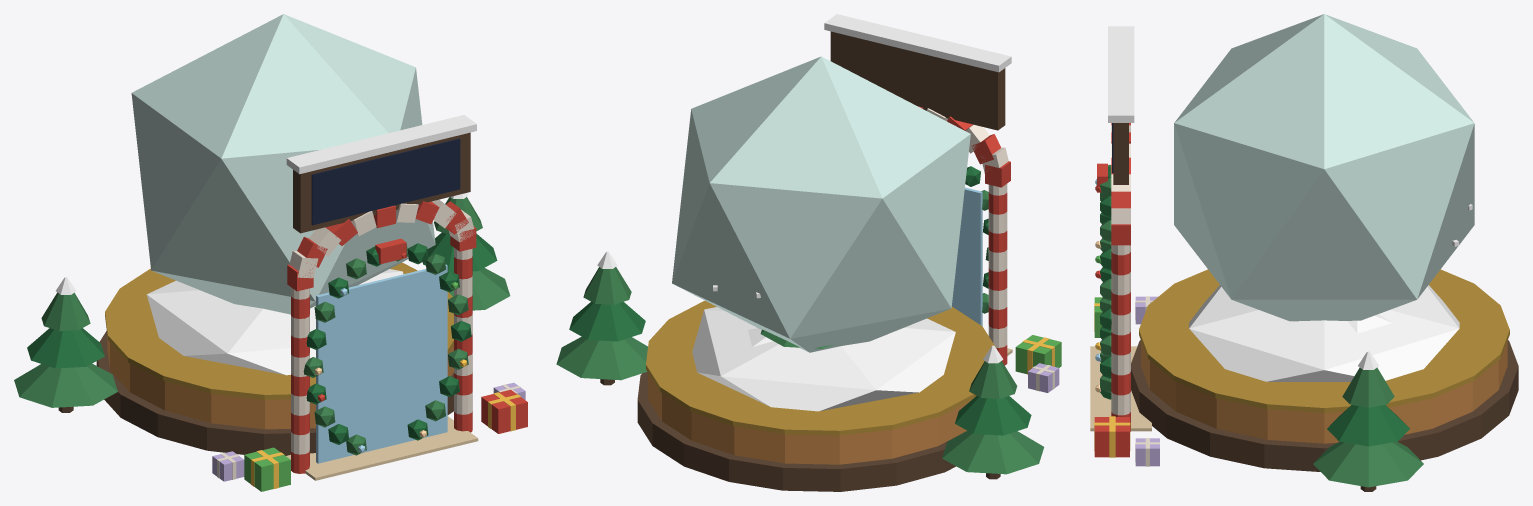
Rendered from CatCafe_Snowglobe_Portal.glb.
3 views of the same model, side by side, from view 1: azimuth 30°, elevation 25°; view 2: azimuth 150°, elevation 25°; view 3: azimuth 270°, elevation 25° (orthographic). The views are drawn at different scales.
Visible parts, largest first — view 1: CatCafe_Snowglobe_Portal, CatCafe_Snowglobe_Portal_Glass, CatCafe_Snowglobe_Portal_Portal_Glow, CatCafe_Snowglobe_Portal_Screen; view 2: CatCafe_Snowglobe_Portal, CatCafe_Snowglobe_Portal_Glass, CatCafe_Snowglobe_Portal_Portal_Glow; view 3: CatCafe_Snowglobe_Portal, CatCafe_Snowglobe_Portal_Glass.
Part boxes in pixels (<box>): CatCafe_Snowglobe_Portal: <box>14,115,527,491</box>; CatCafe_Snowglobe_Portal_Glass: <box>131,14,435,314</box>; CatCafe_Snowglobe_Portal_Portal_Glow: <box>316,264,447,463</box>; CatCafe_Snowglobe_Portal_Screen: <box>311,138,460,225</box>; CatCafe_Snowglobe_Portal: <box>556,14,1061,491</box>; CatCafe_Snowglobe_Portal_Glass: <box>672,56,970,352</box>; CatCafe_Snowglobe_Portal_Portal_Glow: <box>951,187,982,325</box>; CatCafe_Snowglobe_Portal: <box>1090,26,1518,491</box>; CatCafe_Snowglobe_Portal_Glass: <box>1174,14,1474,321</box>.
Size of the model in its own units: 26.24 by 18.8 by 19.4.
Materials: 1 (1 with a texture image).
